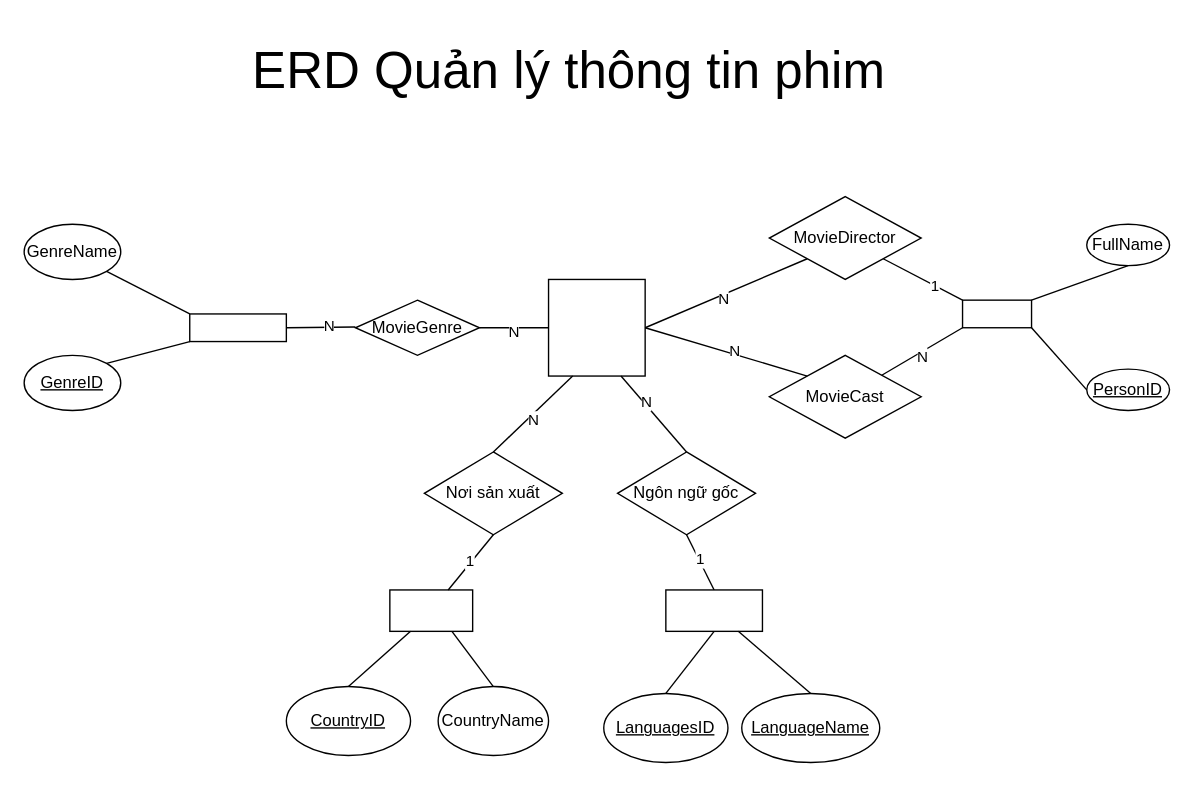
This 1194x787 diagram has some shape labels left out. Here are the shapes that lost their labels. From the top down, the centre of each, then its label:
the point at 237,327: genres
the point at 596,327: Movie
the point at 996,313: Person
the point at 430,610: Countries
the point at 713,610: Languages
